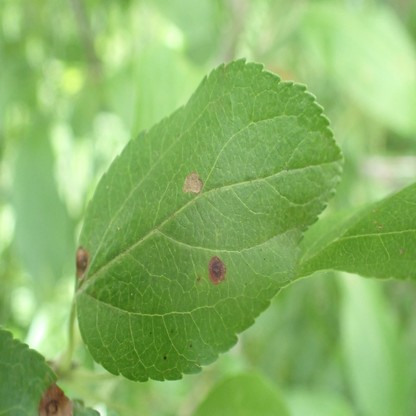frogeye_leaf_spot: (39, 386, 74, 416), (75, 245, 89, 283), (183, 171, 202, 195), (209, 258, 225, 284)
